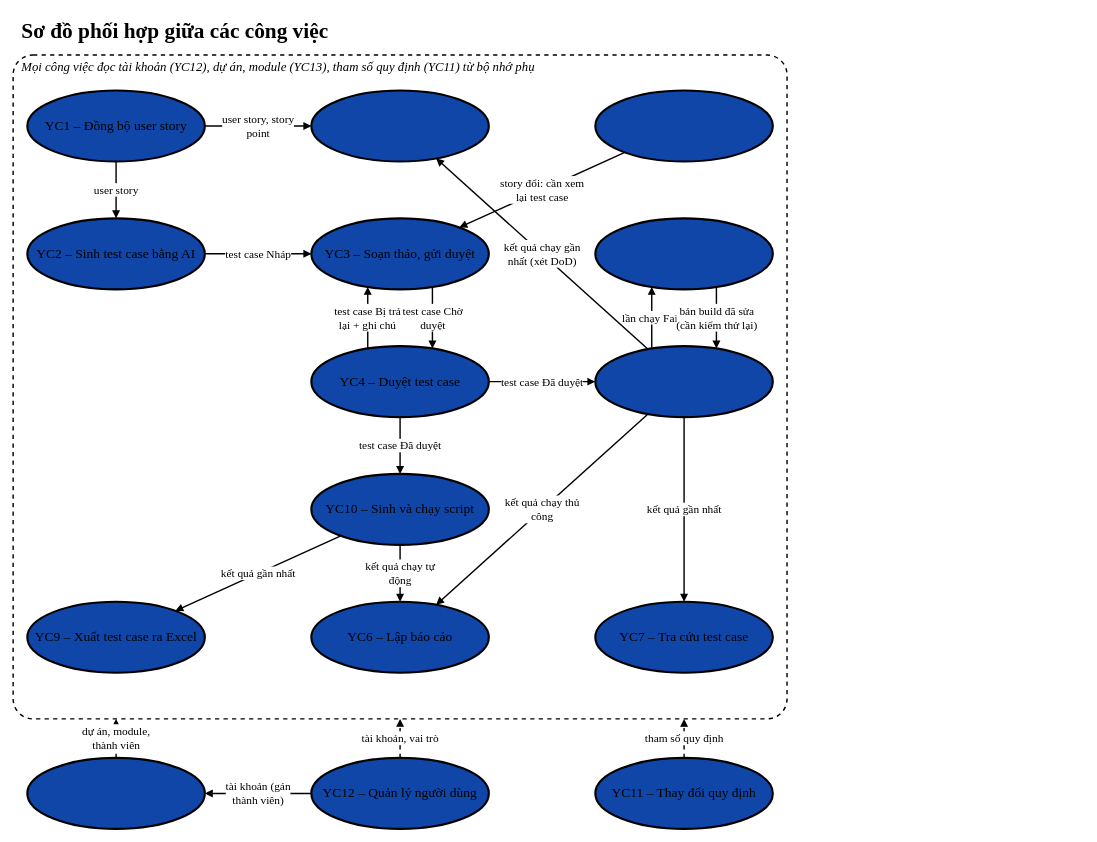
Some shapes in this 1097 by 842 pixel diagram are drawn without their labels. The shapes that lost their labels are listed below. From the top down, each one's box as (x1, y1, x2, y2) in pixels, then its label:
(310, 89, 490, 162): YC14 – Theo dõi sprint
(594, 89, 774, 162): YC8 – Nhận thay đổi user story
(594, 217, 774, 290): YC15 – Báo đã sửa lỗi
(594, 345, 774, 418): YC5 – Ghi nhận kết quả
(26, 757, 206, 830): YC13 – Đồng bộ dự án từ Jira
